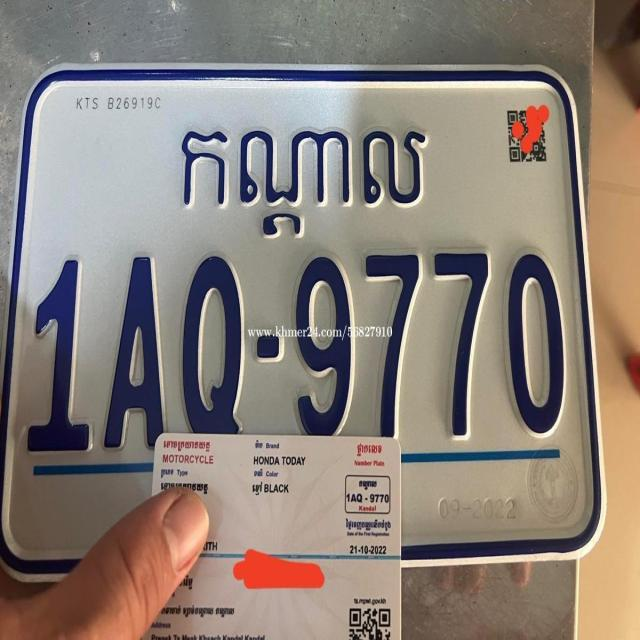Kandal: (182, 128, 426, 238)
